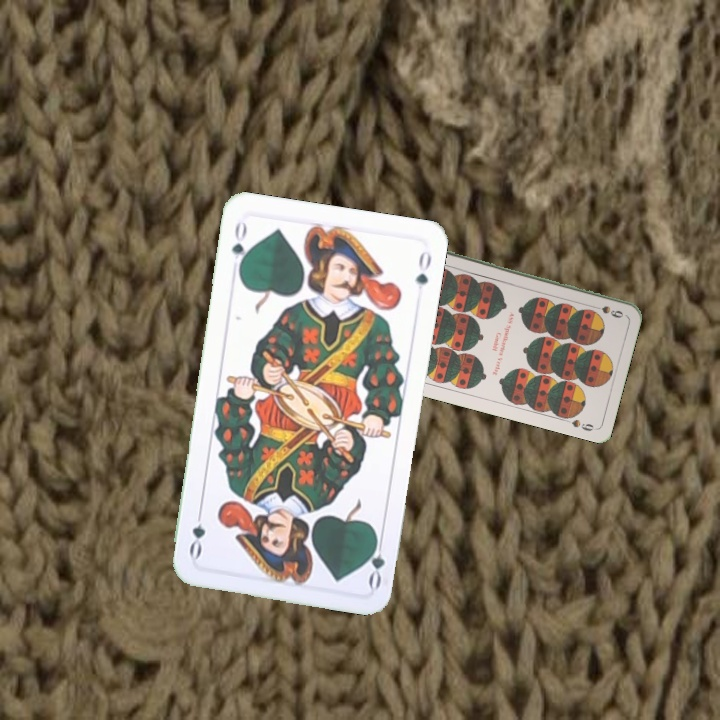GO: (362, 530, 388, 591), (227, 218, 251, 276)
S9: (587, 301, 626, 320)
